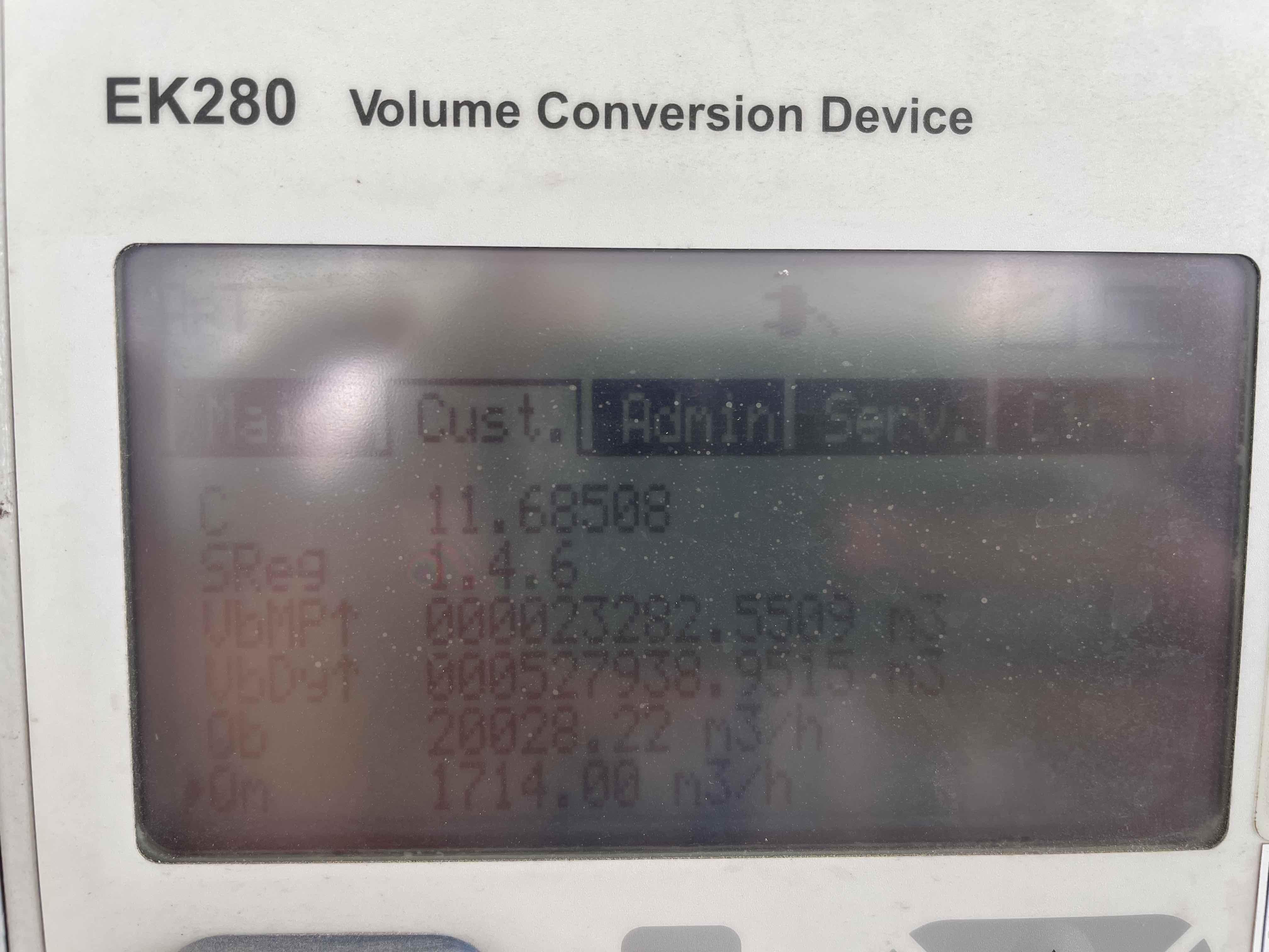digital_screen: (115, 248, 1257, 864)
